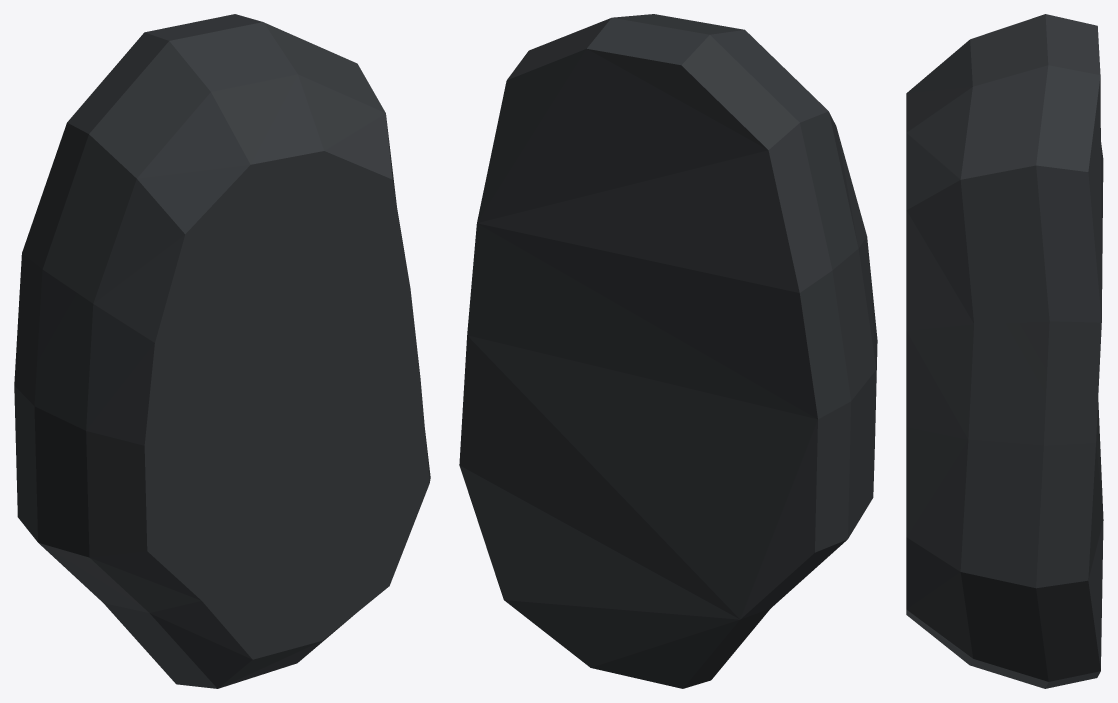
The model's file is FERNSTONE_CHIME.shadow.glb.
3 renders of one model, left to right at view 1: azimuth 30°, elevation 25°; view 2: azimuth 150°, elevation 25°; view 3: azimuth 270°, elevation 25°, orthographic. The views are drawn at different scales.
Parts seen in each view (by area): view 1: Body_Mesh; view 2: Body_Mesh; view 3: Body_Mesh.
Boxes of the visible parts, <box> form: Body_Mesh: <box>14,14,430,688</box>; Body_Mesh: <box>459,14,877,688</box>; Body_Mesh: <box>906,14,1103,688</box>.
Size of the model in its own units: 0.2173 by 0.3608 by 0.1018.
1 material, 1 textured.
